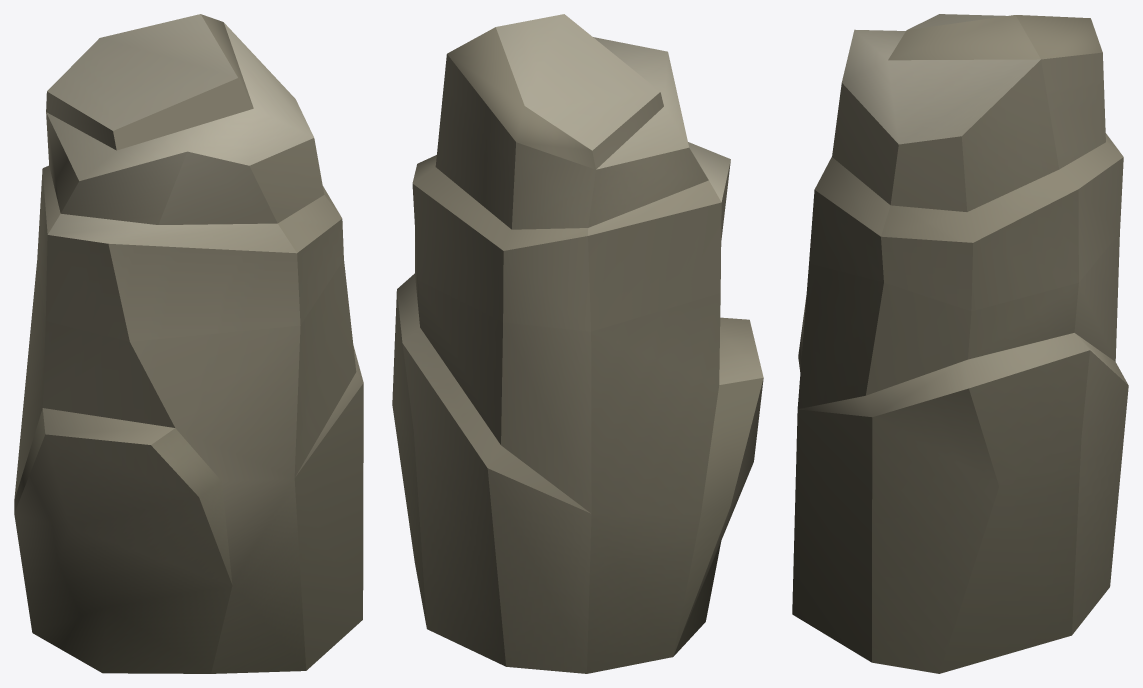
The model's file is orc_stone_pillar_small.fbx.
3 renders of one model, left to right at view 1: azimuth 30°, elevation 25°; view 2: azimuth 150°, elevation 25°; view 3: azimuth 270°, elevation 25°, orthographic. The views are drawn at different scales.
Visible parts, largest first — view 1: orc_stone_pillar_small; view 2: orc_stone_pillar_small; view 3: orc_stone_pillar_small.
Boxes of the visible parts, x1=… form: orc_stone_pillar_small: x1=14, y1=14, x2=363, y2=673; orc_stone_pillar_small: x1=392, y1=14, x2=763, y2=673; orc_stone_pillar_small: x1=792, y1=14, x2=1128, y2=673.
Bounding box in the file's own units: 183 × 312 × 157.
